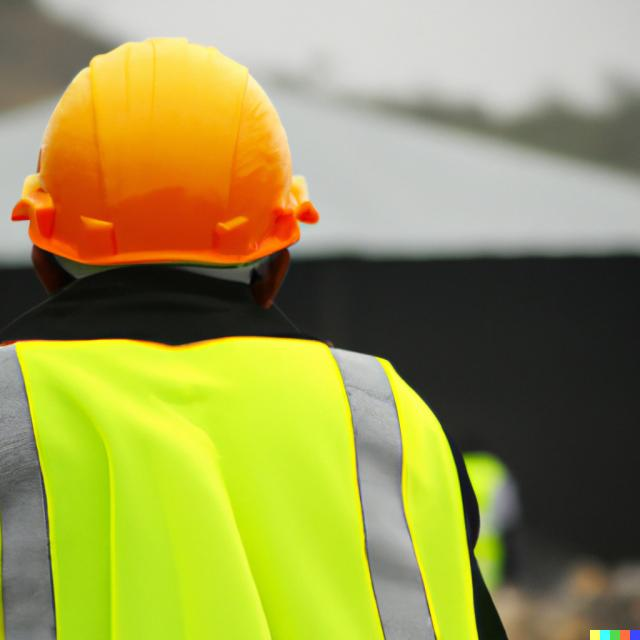Reflective-Jacket: (0, 331, 499, 638)
Safety-Helmet: (11, 38, 322, 270)
